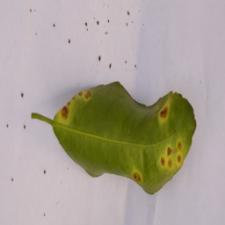Canker: (50, 84, 193, 186)
